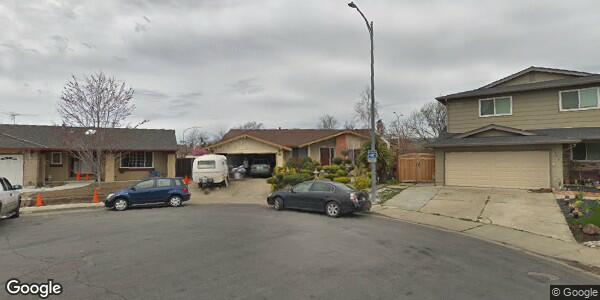Steel_Pole: (345, 1, 379, 204)
